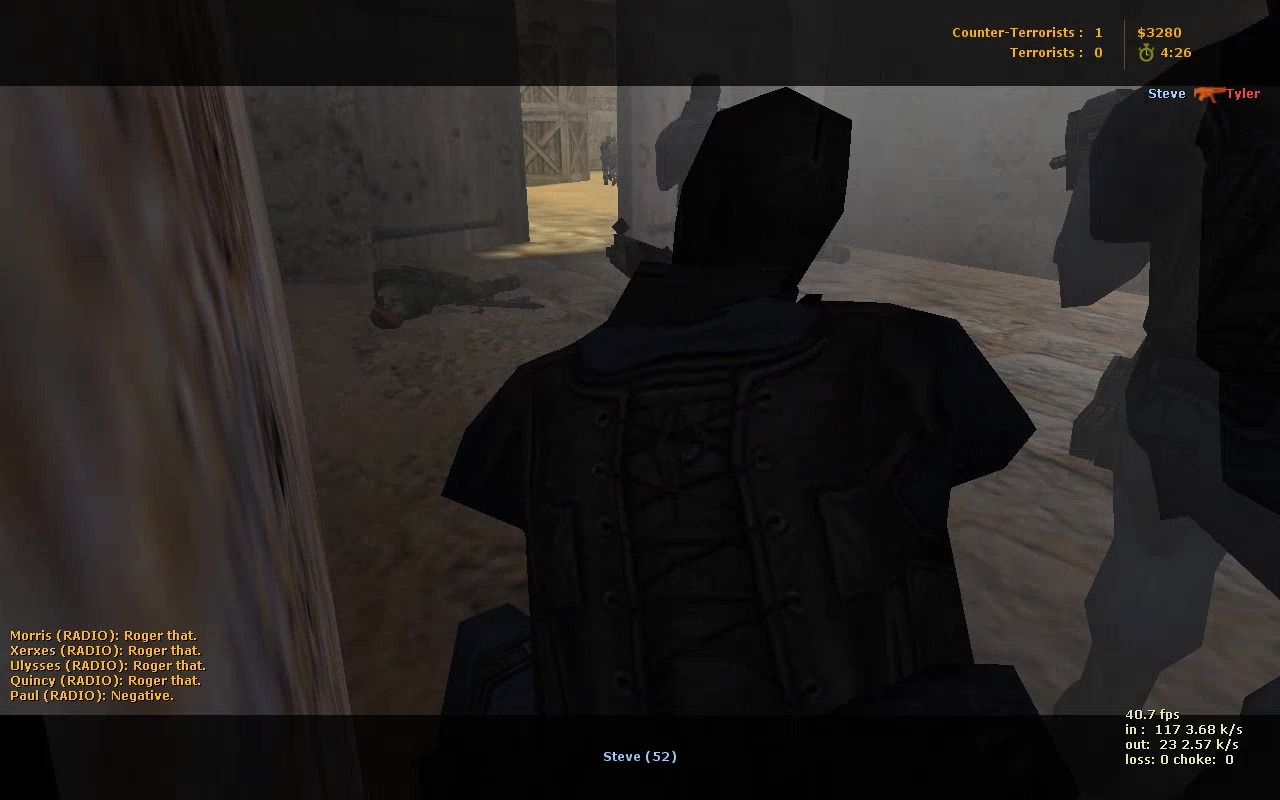dead: (367, 266, 527, 325)
